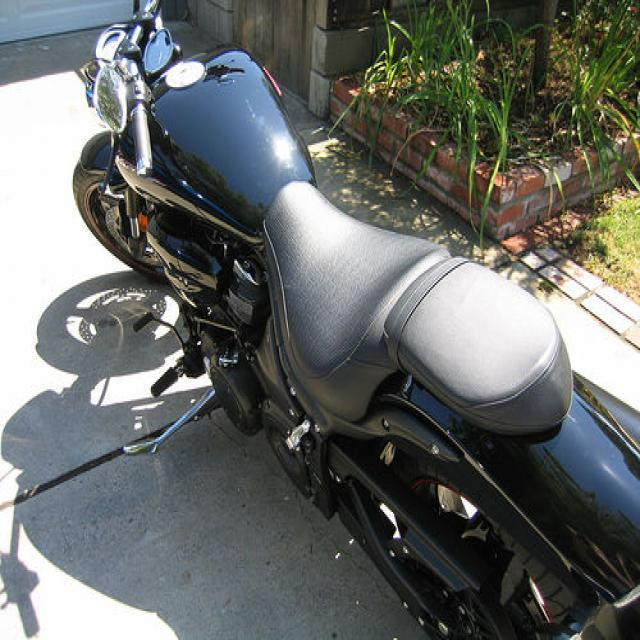Motorbike: (62, 1, 640, 640)
